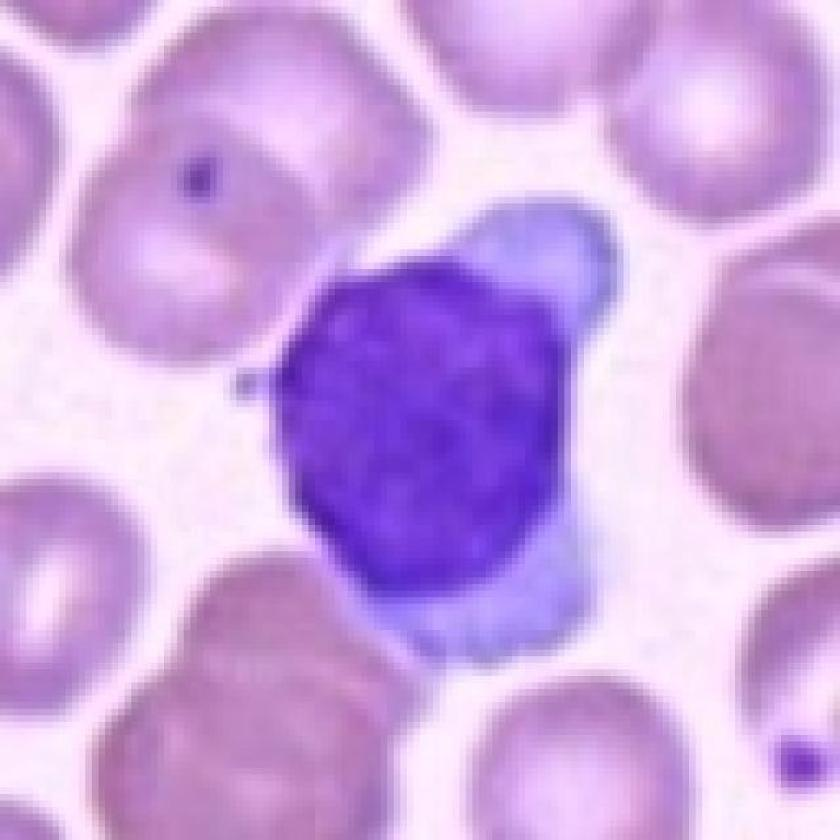lymphocyte: (235, 182, 634, 665)
